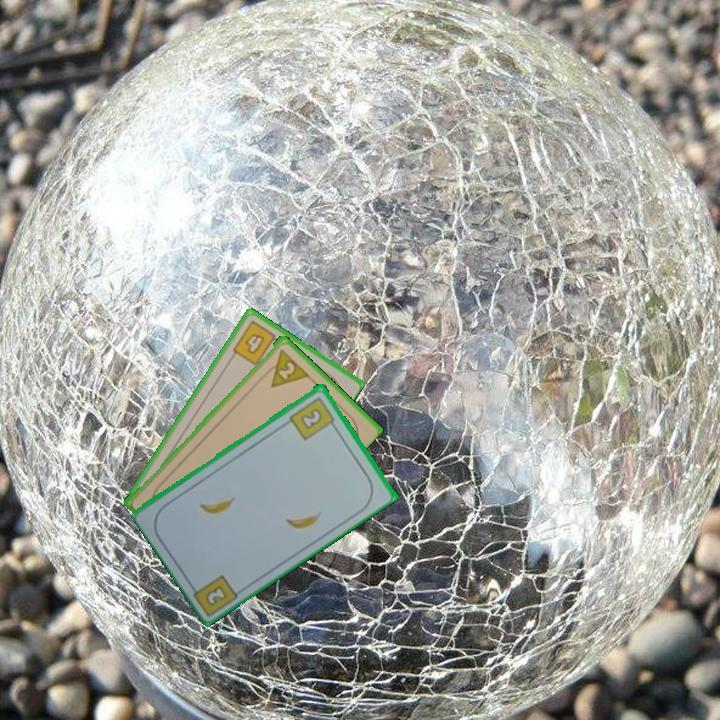2b: (286, 393, 340, 443), (202, 581, 230, 609)
2p: (259, 345, 311, 390)
4b: (229, 317, 283, 369)
